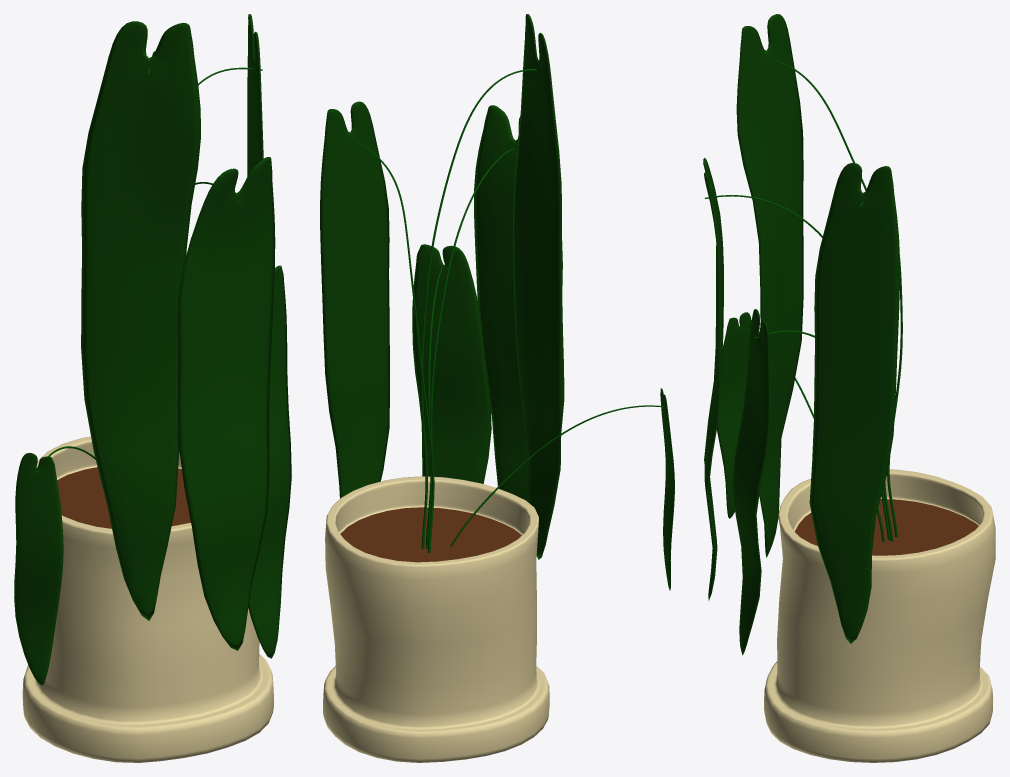
File: Anthurium Warocqueanum w_o texture.fbx
3 renders of one model, left to right at view 1: azimuth 30°, elevation 25°; view 2: azimuth 150°, elevation 25°; view 3: azimuth 270°, elevation 25°, orthographic. The views are drawn at different scales.
Visible parts, largest first — view 1: Plane.005, Plane.007, Plane.001, Plane.003, Plane.002, Plane, Plane.006; view 2: Plane.007, Plane.006, Plane.005, Plane.002, Plane.001, Plane, Plane.004, Plane.003; view 3: Plane.007, Plane.006, Plane.005, Plane.002, Plane, Plane.003, Plane.001, Plane.004.
Boxes of the visible parts, bbox=[...] form: Plane.005: bbox=[81, 21, 200, 620]; Plane.007: bbox=[22, 436, 273, 762]; Plane.001: bbox=[177, 157, 275, 650]; Plane.003: bbox=[14, 453, 63, 685]; Plane.002: bbox=[248, 265, 291, 658]; Plane: bbox=[57, 467, 190, 528]; Plane.006: bbox=[247, 14, 263, 176]; Plane.007: bbox=[323, 476, 549, 762]; Plane.006: bbox=[320, 101, 389, 498]; Plane.005: bbox=[513, 14, 562, 559]; Plane.002: bbox=[412, 244, 491, 483]; Plane.001: bbox=[474, 105, 564, 502]; Plane: bbox=[340, 507, 521, 562]; Plane.004: bbox=[350, 69, 663, 552]; Plane.003: bbox=[660, 388, 674, 590]; Plane.007: bbox=[764, 469, 995, 762]; Plane.006: bbox=[809, 163, 899, 643]; Plane.005: bbox=[736, 14, 803, 557]; Plane.002: bbox=[732, 309, 770, 655]; Plane: bbox=[794, 499, 978, 555]; Plane.003: bbox=[717, 312, 751, 518]; Plane.001: bbox=[703, 158, 723, 600]; Plane.004: bbox=[705, 59, 902, 541].
Size of the model in its own units: 31.33 by 70.78 by 27.85.
